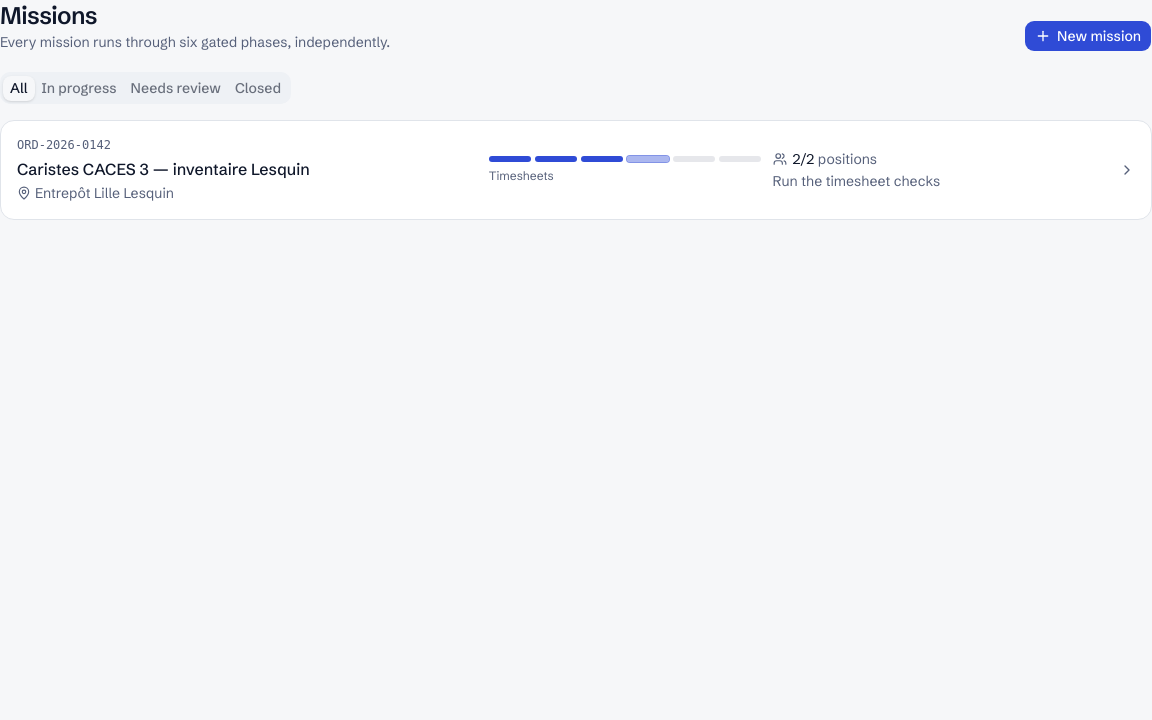
Test: MissionBoard › creating a mission adds a row without reloading the page
Expected: the number of list items with test id "mission-row" is 1, [0, 120, 1151, 220]
Click the button with test id "new-mission": (1088, 36) [1024, 20, 1151, 52]
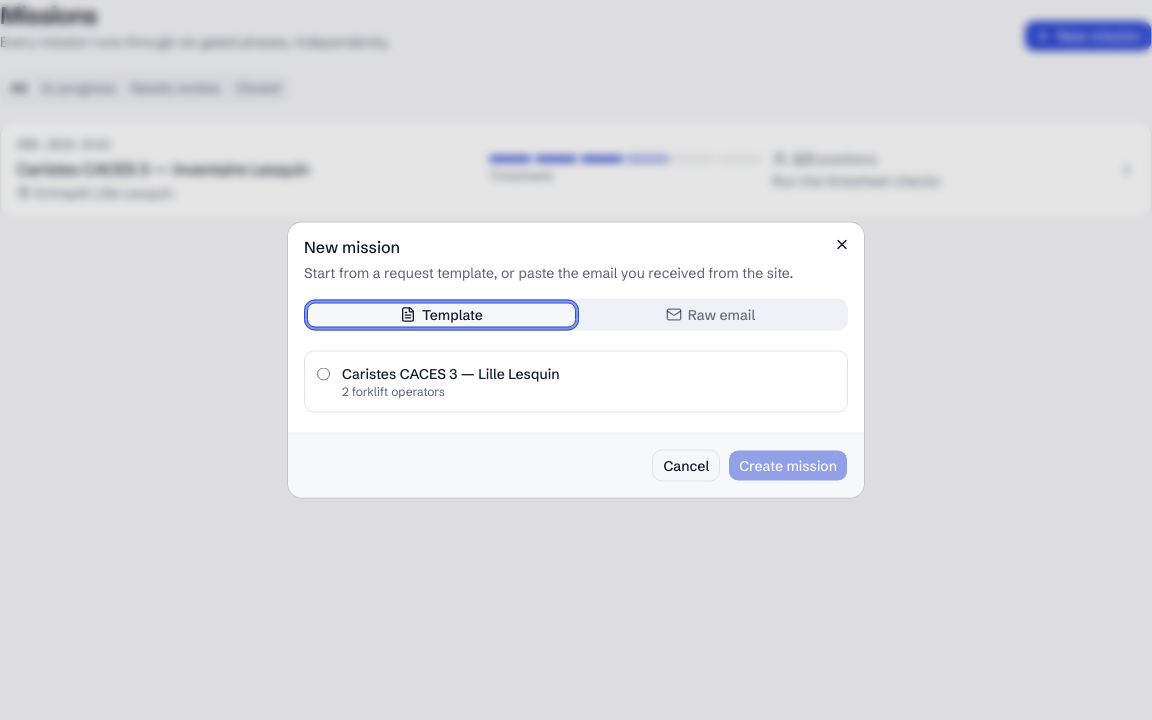
Click the radio button with test id "template-forklift-lille": (324, 374) [317, 368, 330, 380]
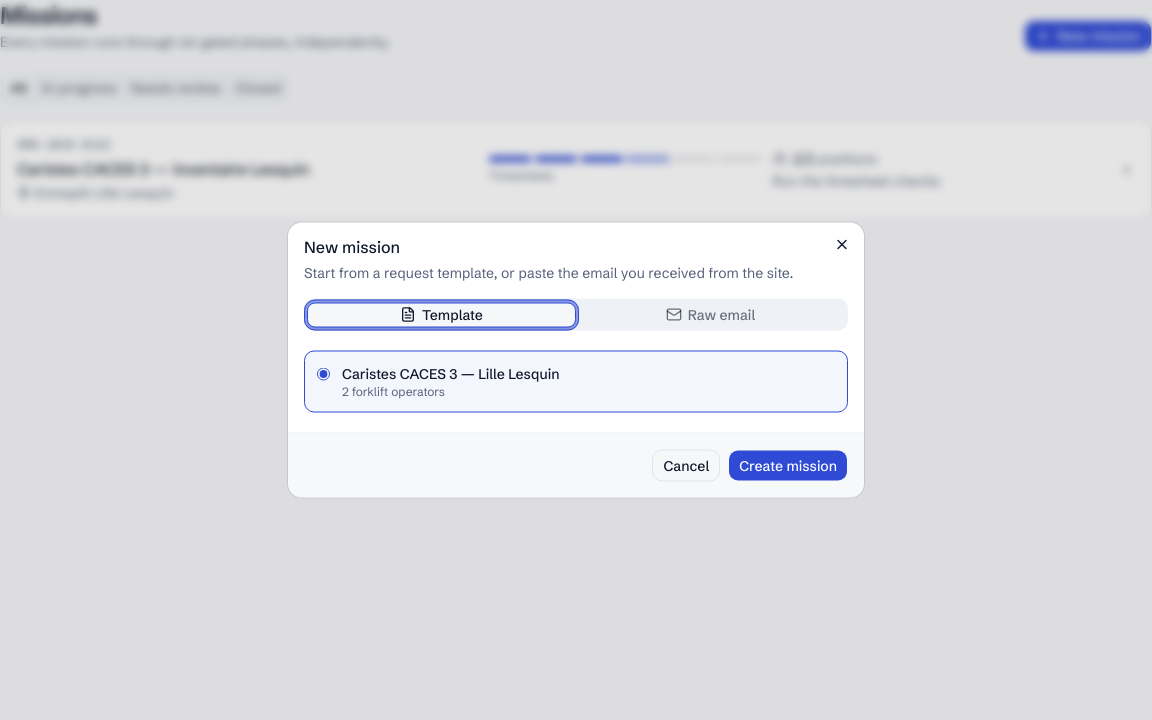
Click the button with test id "create-mission": (788, 466) [728, 450, 848, 482]
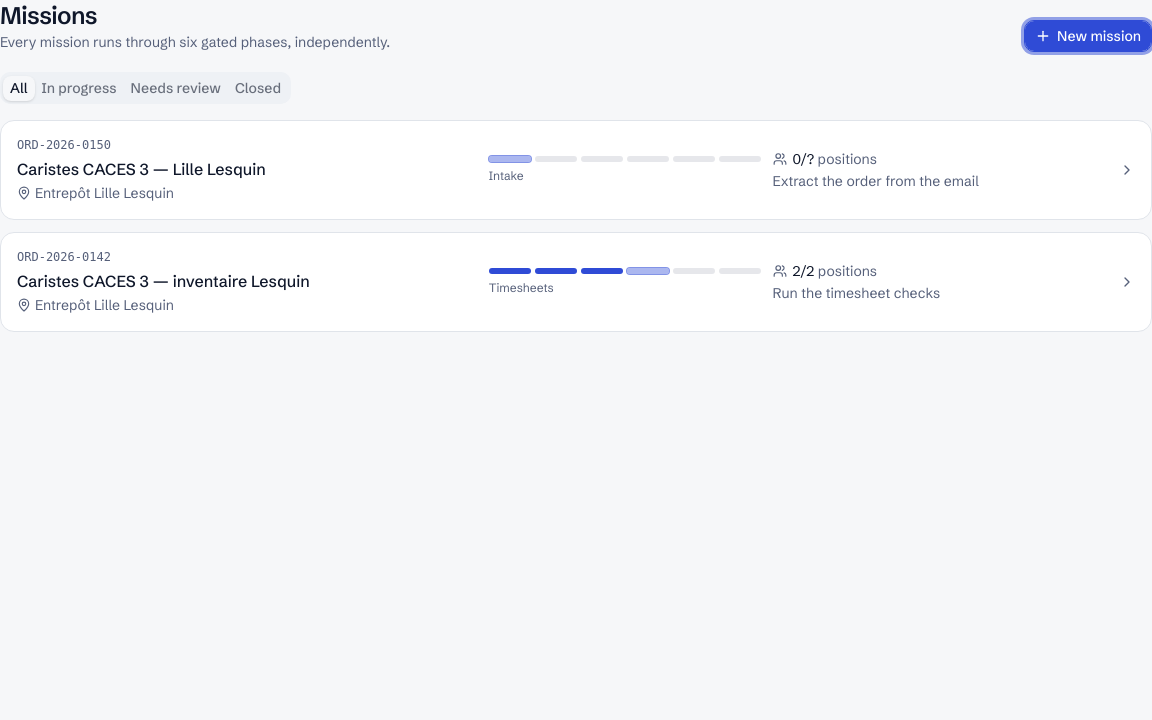
Expected: the number of list items with test id "mission-row" is 2, [0, 120, 1151, 220]; [0, 232, 1151, 332]
Expected: the text "ORD-2026-0150" is shown, [17, 137, 111, 153]
